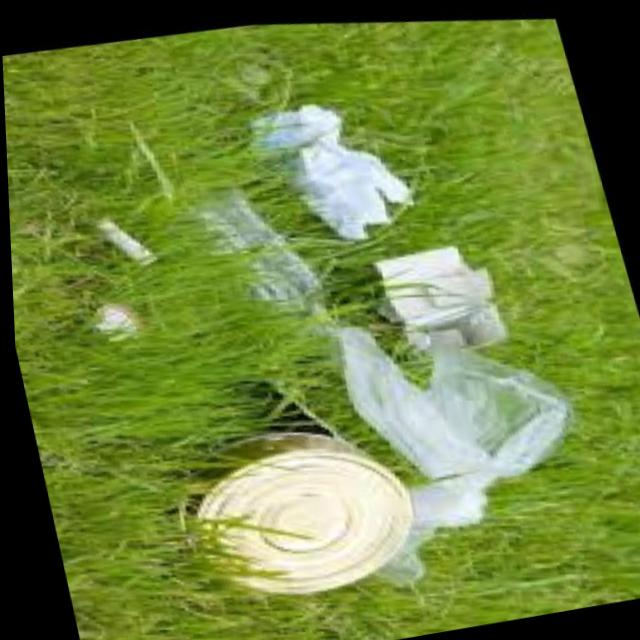clothes: (125, 377, 441, 635)
foam box: (149, 143, 361, 361)
food: (229, 50, 445, 257)
metal: (283, 275, 614, 616)
trash: (332, 211, 553, 385)
